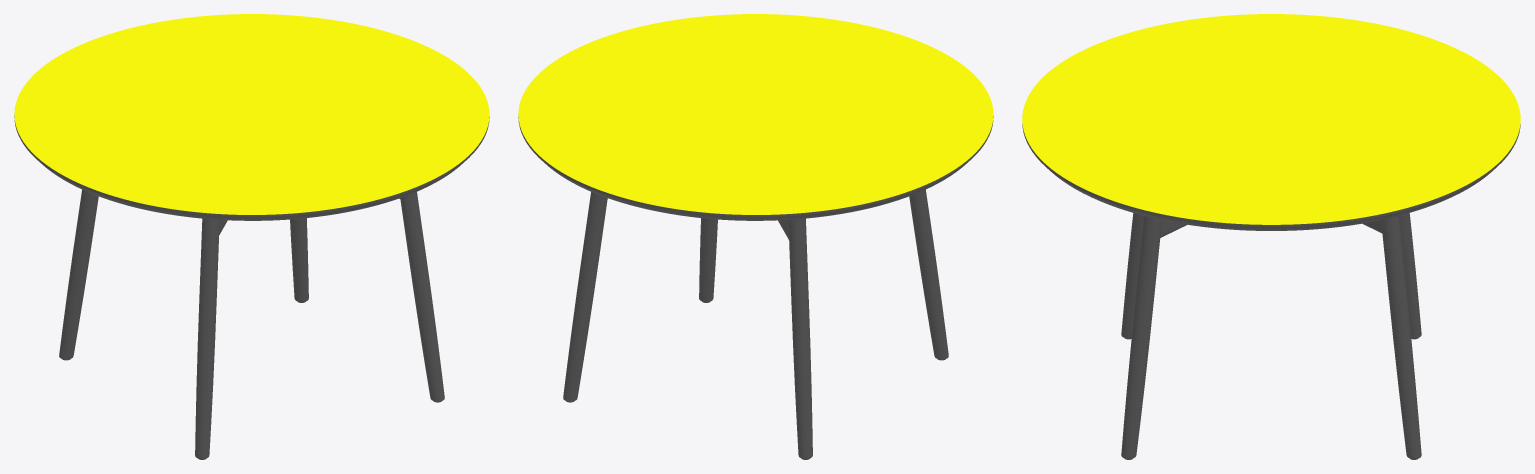
The model's file is SM_Table.glb.
3 views of the same model, side by side, from view 1: azimuth 30°, elevation 25°; view 2: azimuth 150°, elevation 25°; view 3: azimuth 270°, elevation 25° (orthographic). The views are drawn at different scales.
Visible parts, largest first — view 1: SM_Table; view 2: SM_Table; view 3: SM_Table.
Part boxes in pixels (bbox=[...]): SM_Table: bbox=[14, 14, 489, 459]; SM_Table: bbox=[518, 14, 993, 459]; SM_Table: bbox=[1022, 14, 1520, 459].
Bounding box in the file's own units: 1.2 × 0.74 × 1.2.
2 materials, 1 textured.
